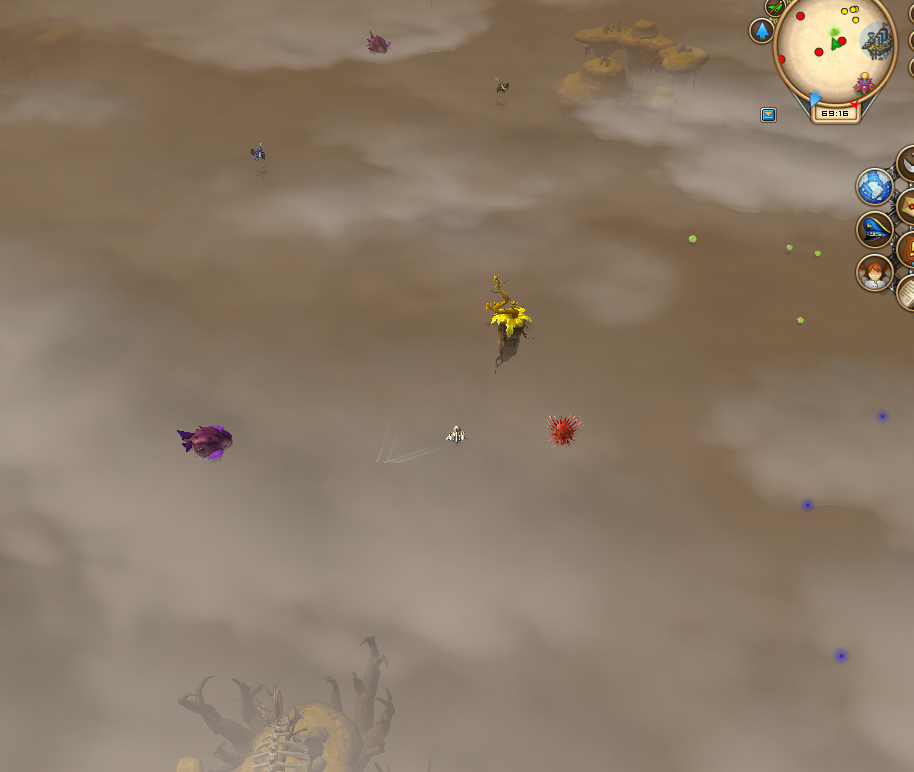dandelion-empty: (482, 271, 529, 359)
fluff: (684, 230, 699, 247), (794, 312, 807, 326), (813, 248, 823, 259), (785, 242, 795, 252)
